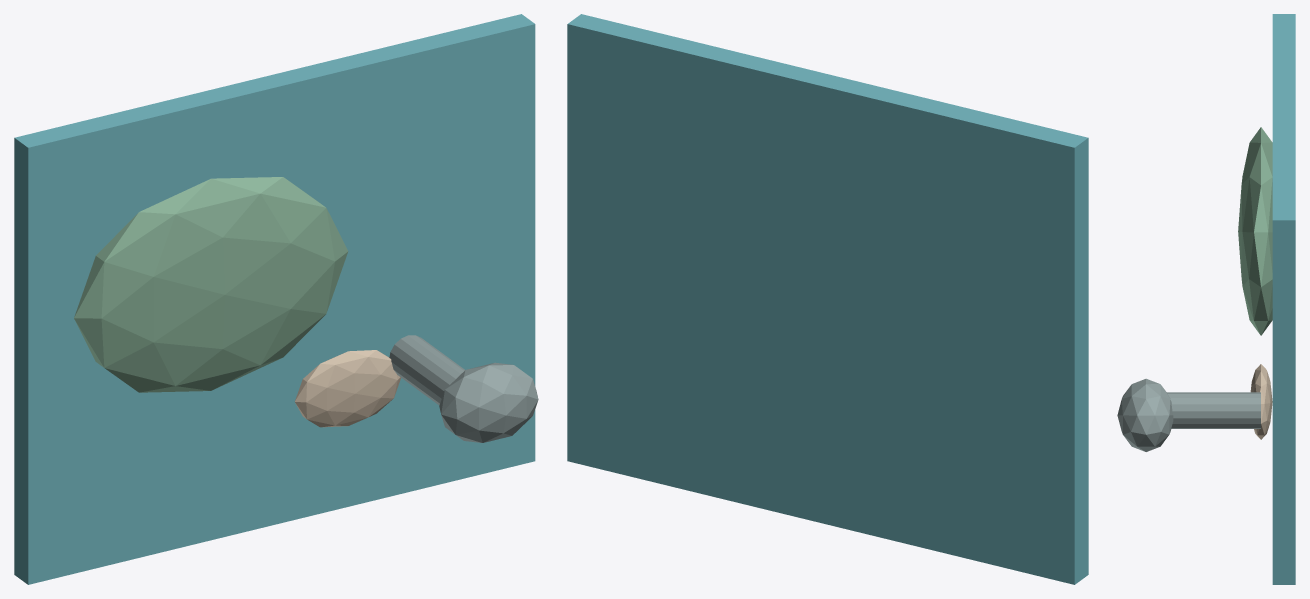
File: xiaoliuqiu_flower.glb
3 renders of one model, left to right at view 1: azimuth 30°, elevation 25°; view 2: azimuth 150°, elevation 25°; view 3: azimuth 270°, elevation 25°, orthographic. The views are drawn at different scales.
Visible parts, largest first — view 1: g0, g1, g3, g4, g2; view 2: g0; view 3: g0, g1, g2, g3, g4.
Boxes of the visible parts, <box> form: g0: <box>14,14,535,584</box>; g1: <box>74,177,348,392</box>; g3: <box>439,362,538,442</box>; g4: <box>294,350,400,427</box>; g2: <box>389,335,464,405</box>; g0: <box>567,14,1088,584</box>; g0: <box>1272,14,1295,584</box>; g1: <box>1238,127,1272,335</box>; g2: <box>1166,392,1260,428</box>; g3: <box>1117,378,1173,451</box>; g4: <box>1250,364,1272,439</box>.
Size of the model in its own units: 85 by 70 by 31.
